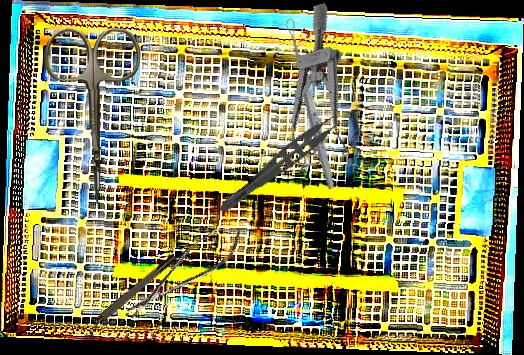Fixation Ring: (78, 252, 182, 340)
Iris Scissors: (43, 27, 145, 209)
Micro Scissor: (117, 218, 250, 325)
Speculum: (256, 2, 375, 184)
Surgical Spoon: (283, 17, 338, 191)
Tissue Forceps: (215, 104, 353, 225)
